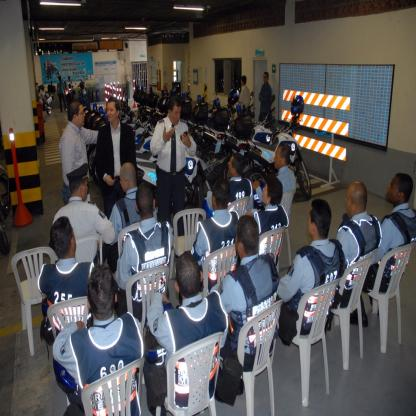Helmet: (291, 94, 304, 115)
